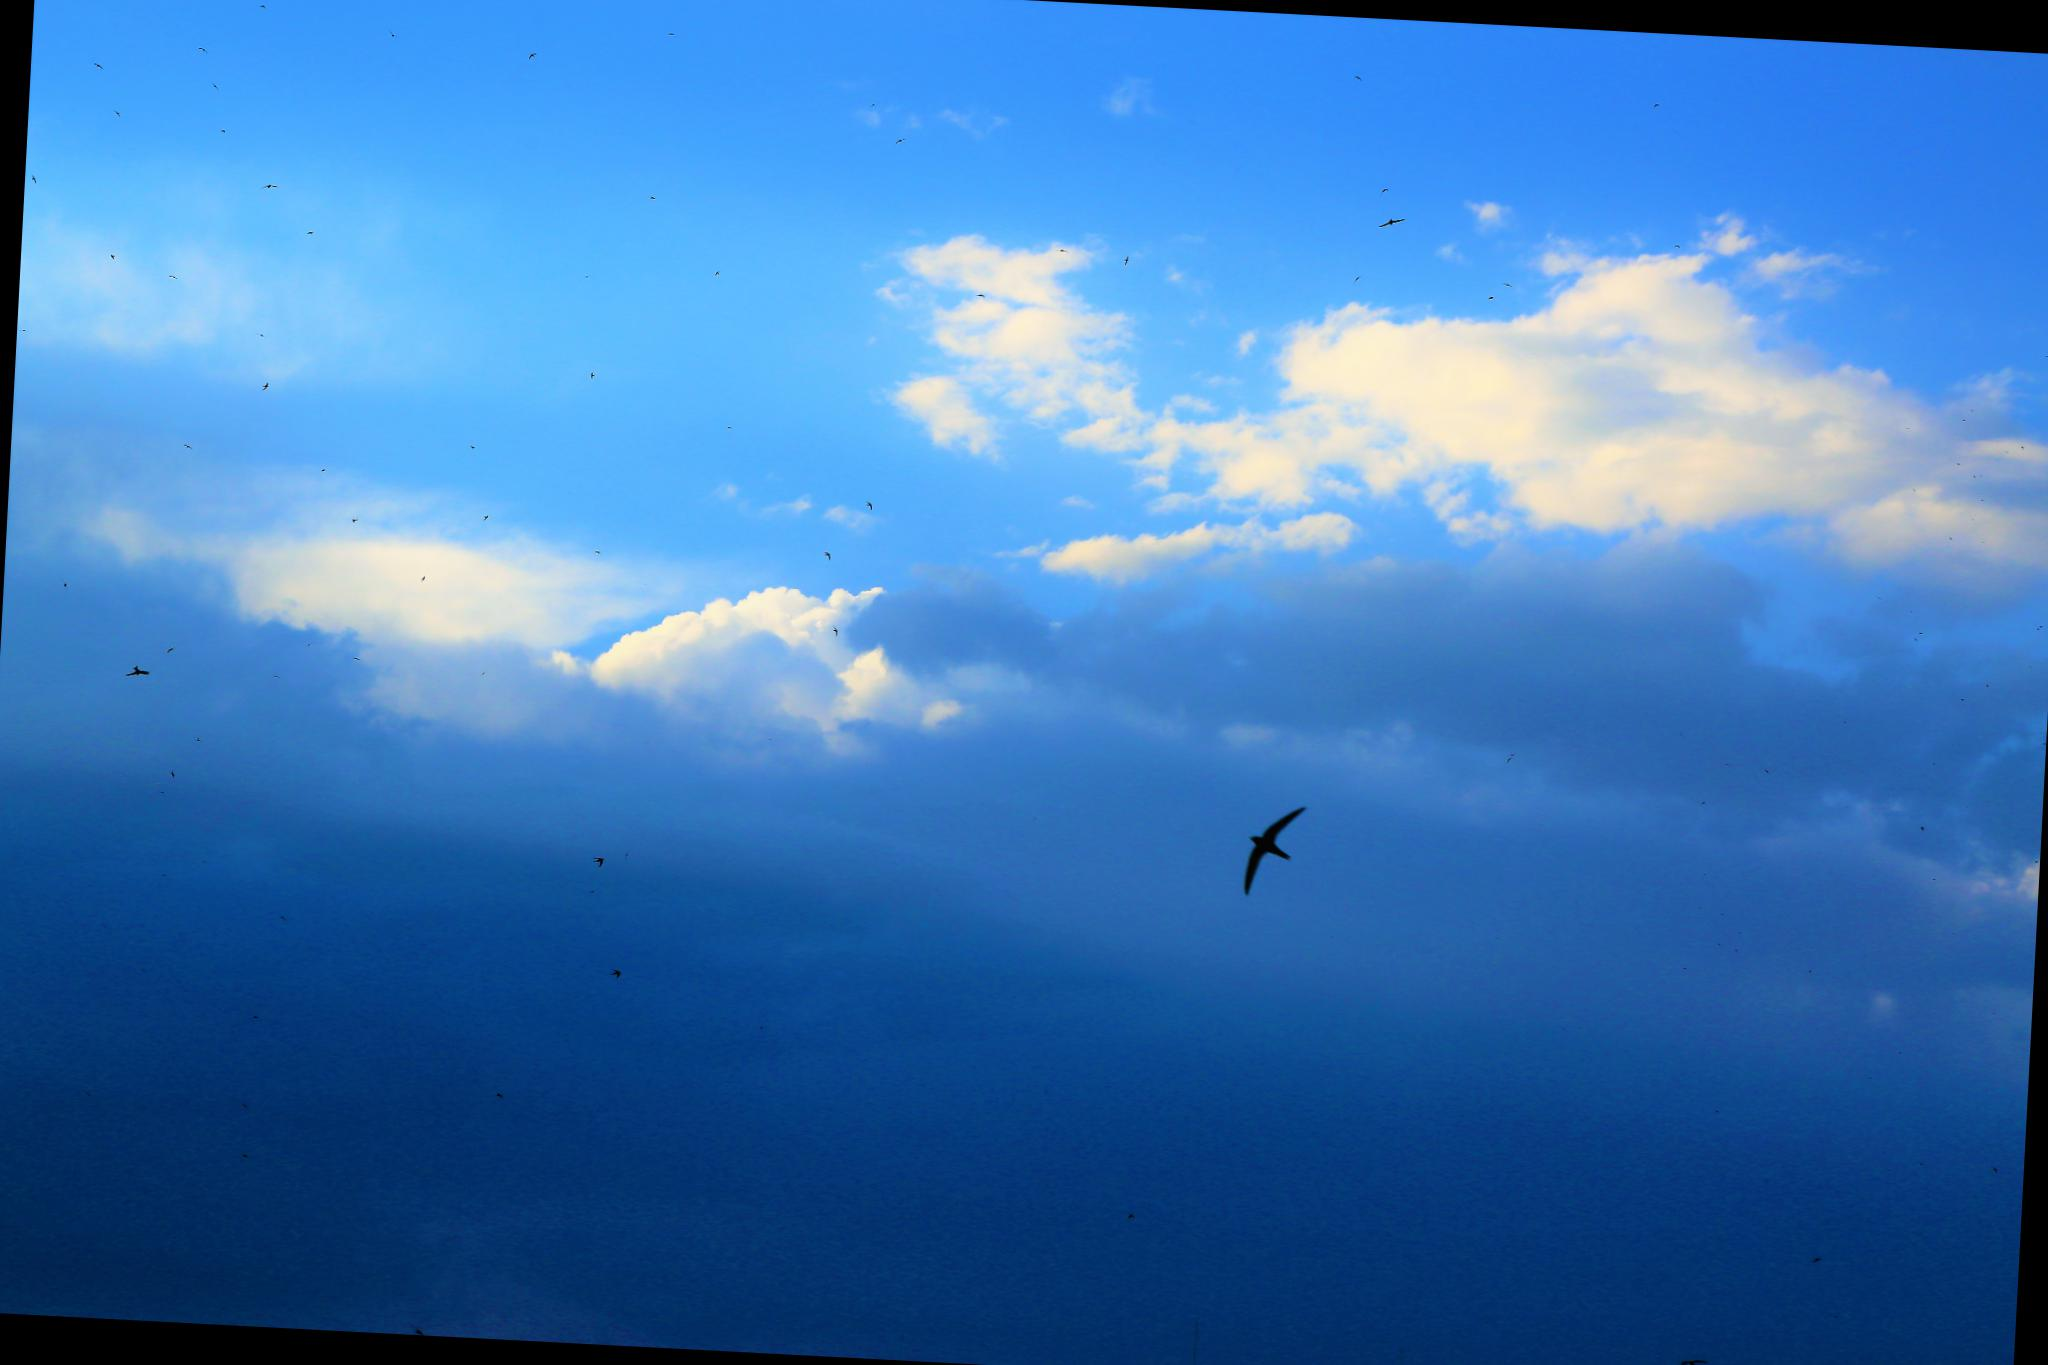bird: (1211, 783, 1323, 903), (1360, 204, 1419, 239), (113, 658, 164, 682), (583, 842, 621, 874)
